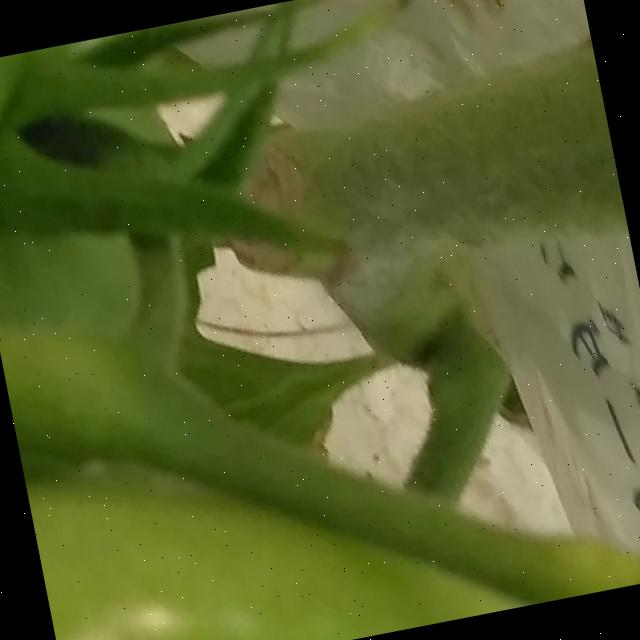tomato: (25, 359, 640, 640), (0, 17, 261, 381)
